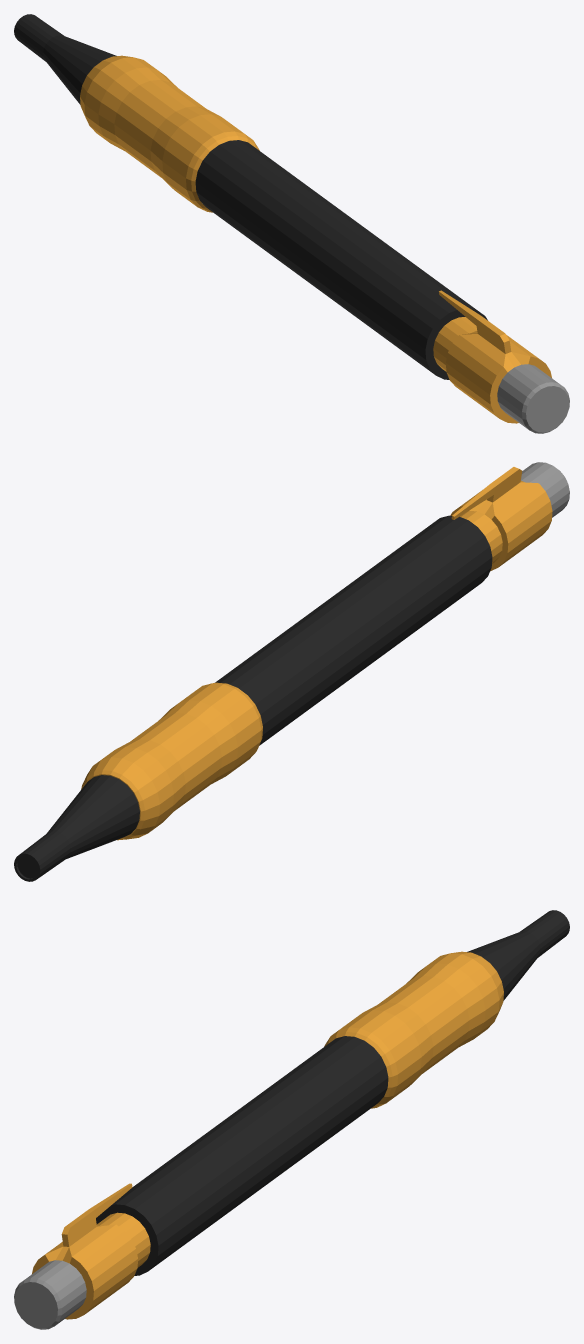
The model's file is Mechanical Pencil.fbx.
The picture shows the model from 3 angles, top to bottom: view 1: azimuth 30°, elevation 25°; view 2: azimuth 150°, elevation 25°; view 3: azimuth 330°, elevation 25°; orthographic projection.
Parts seen in each view (by area): view 1: Cylinder; view 2: Cylinder; view 3: Cylinder.
Part boxes in pixels (x1=…): Cylinder: x1=14, y1=14, x2=569, y2=433; Cylinder: x1=14, y1=462, x2=569, y2=881; Cylinder: x1=14, y1=910, x2=569, y2=1329.
Size of the model in its own units: 174 by 193 by 2068.
